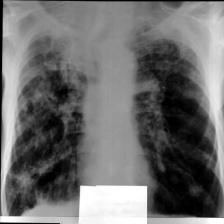tuberculosis: (4, 22, 224, 219)
